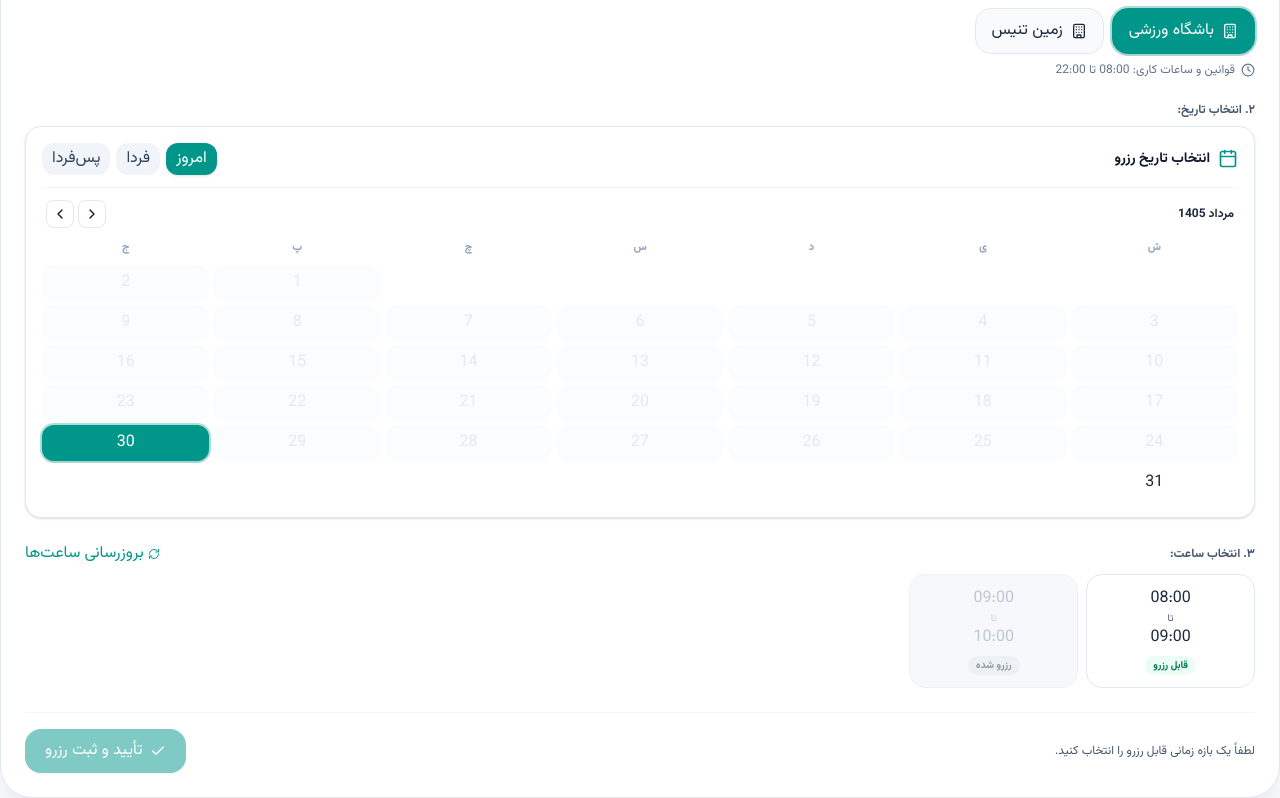
Scenario: AmenityBookingSection › allows clicking an available slot and submitting the booking
(page scrolled)
Expected: the button "تأیید و ثبت رزرو" is disabled, [25,728,186,772]
Click the button "08:00 تا 09:00 قابل رزرو". click: click(1171, 630)
box: [1086,574,1255,688]
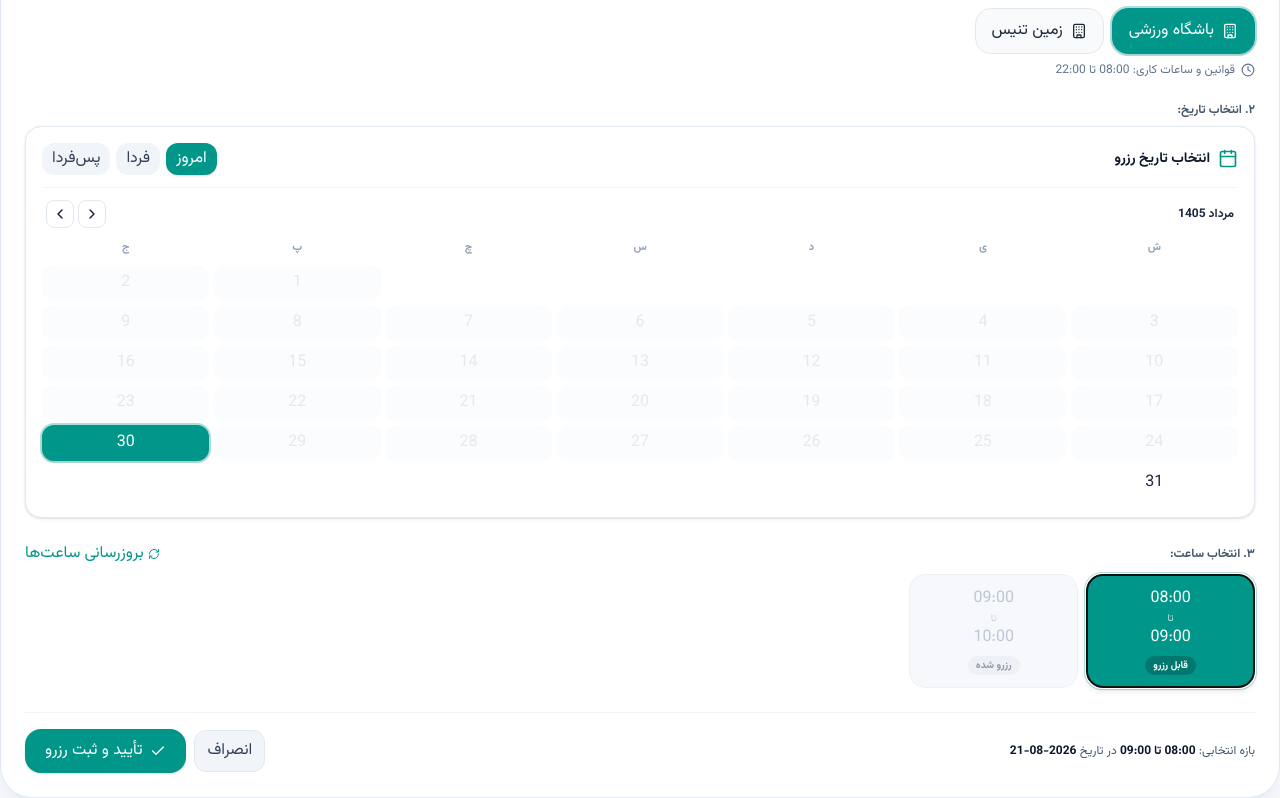
Result: the button "تأیید و ثبت رزرو" is enabled
Click the button "تأیید و ثبت رزرو". click: click(106, 750)
box: [25,728,186,772]
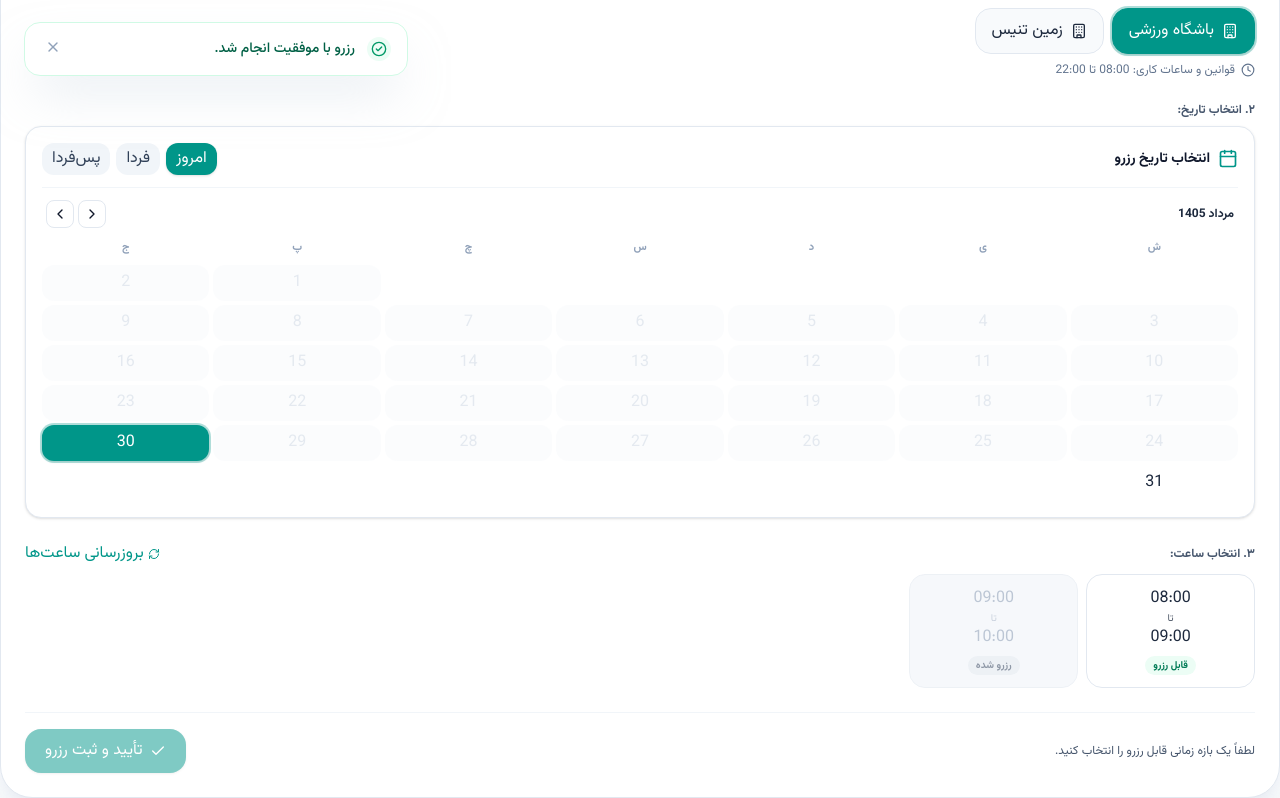
Result: the text "رزرو با موفقیت انجام شد." is shown at [214,38,355,60]
